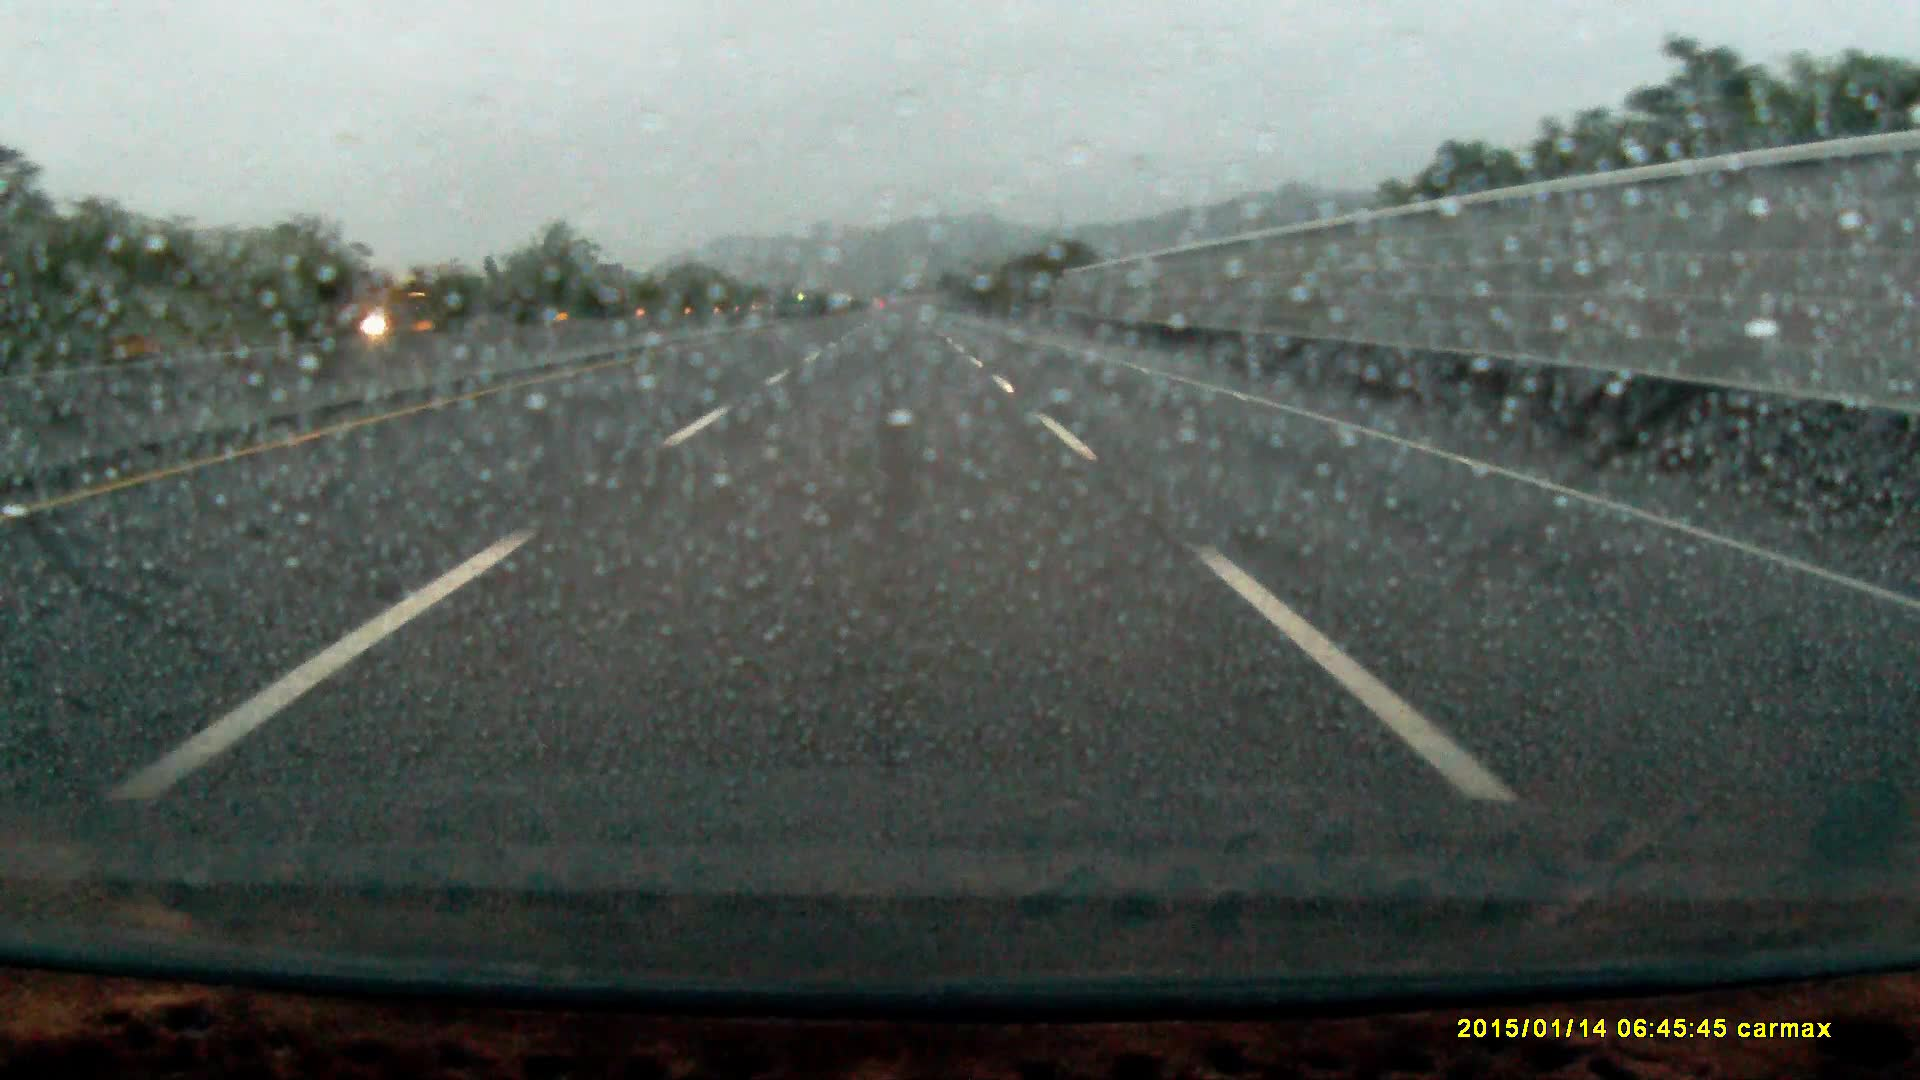vehicle: (353, 266, 460, 349)
